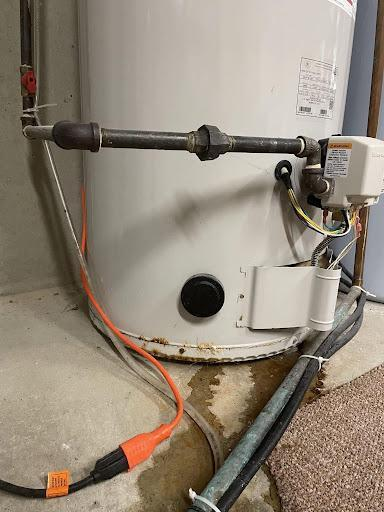water accumulation: (128, 339, 329, 512)
